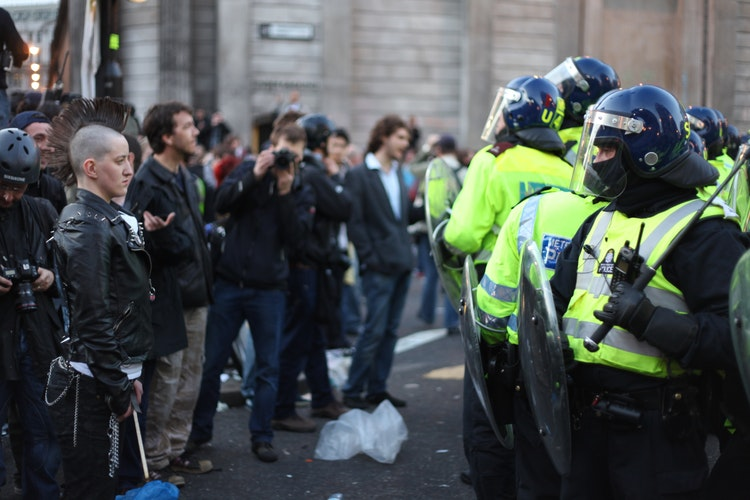helmet: (588, 88, 692, 175), (549, 59, 626, 119), (506, 74, 552, 133)
